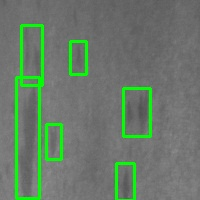inclusion: (16, 77, 39, 198), (123, 88, 150, 136), (21, 25, 42, 85), (116, 163, 134, 200), (46, 124, 61, 159), (70, 42, 86, 74)
